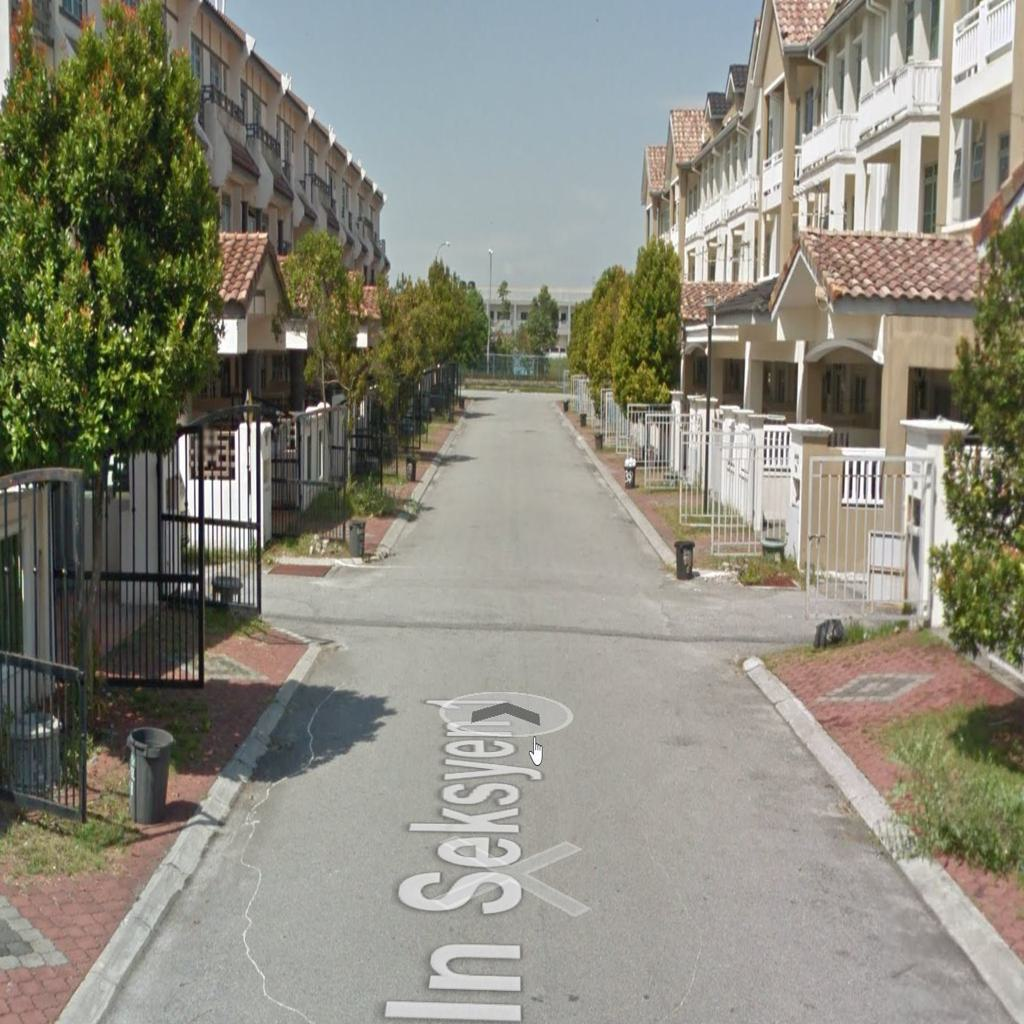Junction: (672, 542, 898, 680), (197, 513, 394, 668)
